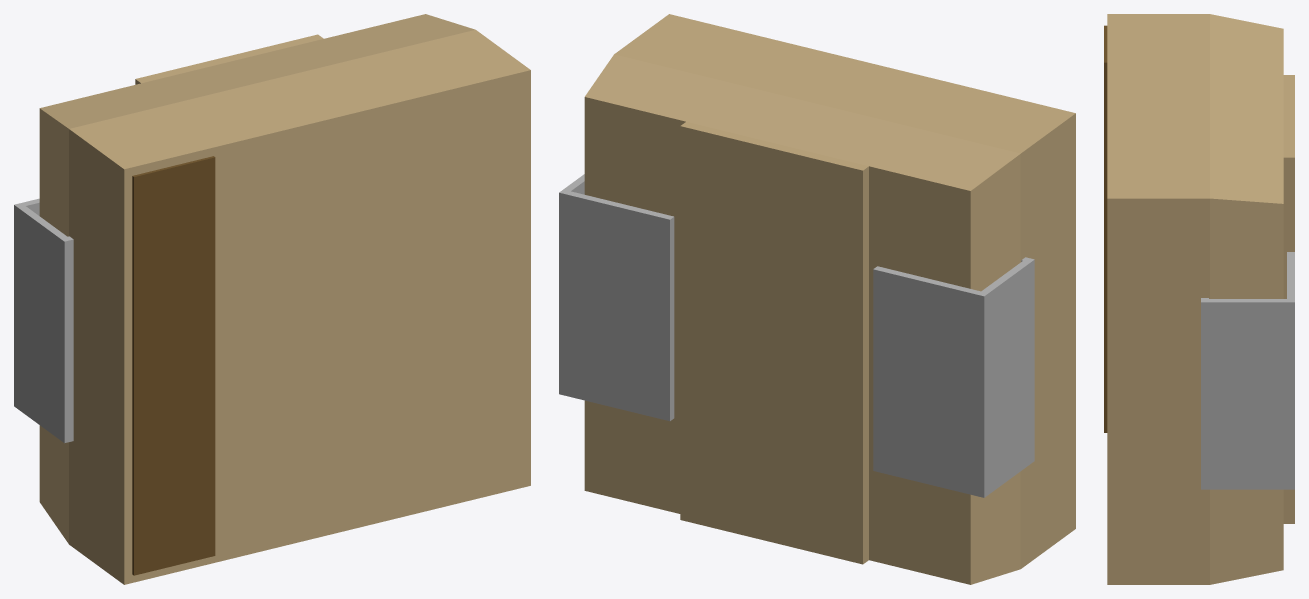
The picture shows the model from 3 angles, left to right: view 1: azimuth 30°, elevation 25°; view 2: azimuth 150°, elevation 25°; view 3: azimuth 270°, elevation 25°; orthographic projection. The views are drawn at different scales.
Size of the model in its own units: 7.29 by 6.81 by 3.05.
